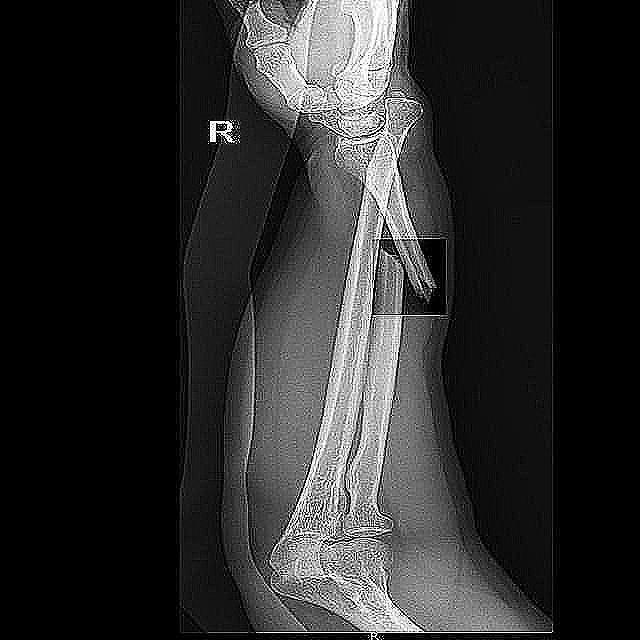bone: (373, 239, 446, 315)
